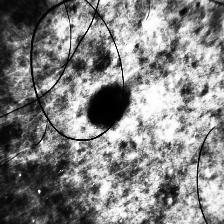Benign Marking or Mole: (89, 86, 130, 127)
